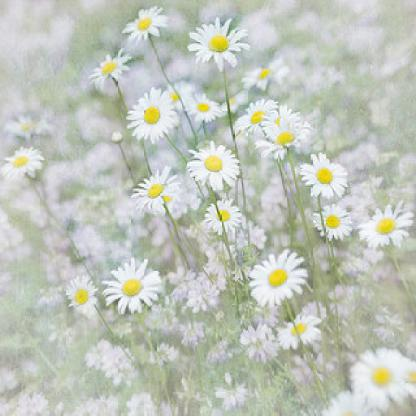ASTER: (5, 7, 409, 404)
